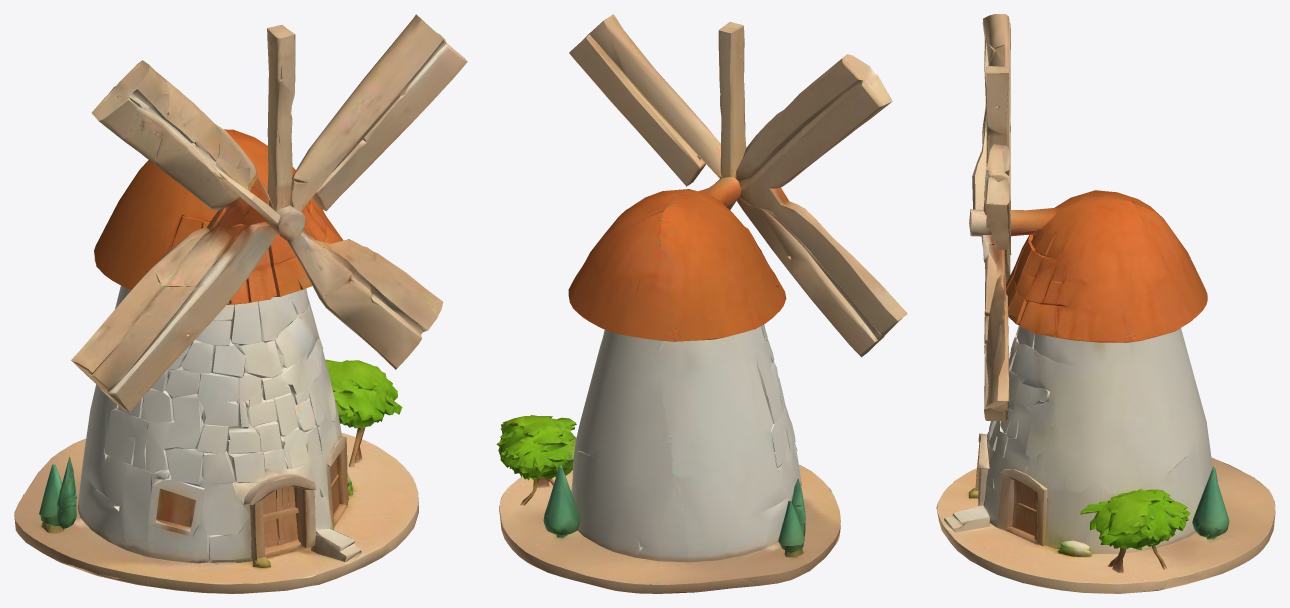
Rendered from base_basic_pbr.glb.
The picture shows the model from 3 angles, left to right: view 1: azimuth 30°, elevation 25°; view 2: azimuth 150°, elevation 25°; view 3: azimuth 270°, elevation 25°; orthographic projection. The views are drawn at different scales.
Parts seen in each view (by area): view 1: model; view 2: model; view 3: model.
Part boxes in pixels (x1,y1,x2,y2): model: (14,14,467,593); model: (496,14,907,593); model: (936,14,1275,593).
Size of the model in its own units: 1.48 by 1.89 by 1.29.
Materials: 1 (1 with a texture image).
